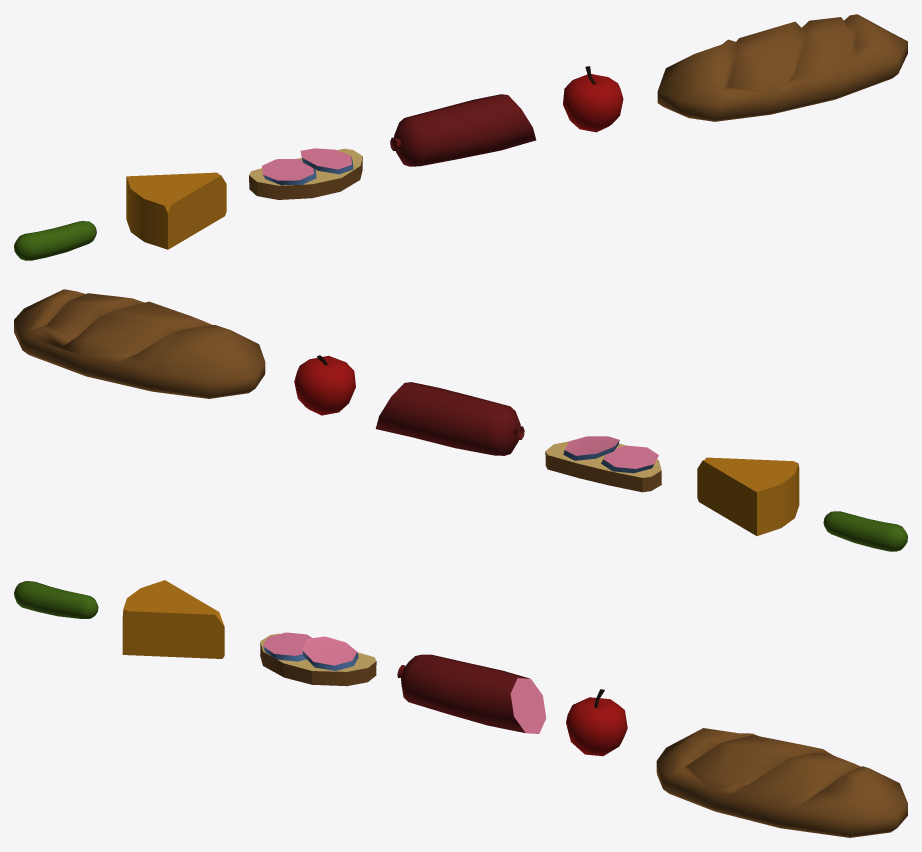
The model's file is Food All.FBX.
3 renders of one model, top to bottom at view 1: azimuth 30°, elevation 25°; view 2: azimuth 150°, elevation 25°; view 3: azimuth 330°, elevation 25°, orthographic.
Parts seen in each view (by area): view 1: Bread_01, Food_saliami_Doktorskaya_01, Food_Cheese_01, Sandwich_01, Food_apple_01, Food_Pickle_01; view 2: Bread_01, Food_saliami_Doktorskaya_01, Food_Cheese_01, Sandwich_01, Food_apple_01, Food_Pickle_01; view 3: Bread_01, Food_saliami_Doktorskaya_01, Food_Cheese_01, Sandwich_01, Food_apple_01, Food_Pickle_01.
Part boxes in pixels (box(x1,y1,x2,y2)): Bread_01: box(657, 14, 907, 121); Food_saliami_Doktorskaya_01: box(390, 94, 536, 166); Food_Cheese_01: box(126, 172, 226, 249); Sandwich_01: box(249, 148, 362, 199); Food_apple_01: box(563, 66, 623, 132); Food_Pickle_01: box(14, 221, 96, 260); Bread_01: box(14, 289, 265, 398); Food_saliami_Doktorskaya_01: box(375, 382, 524, 455); Food_Cheese_01: box(697, 457, 799, 535); Sandwich_01: box(545, 436, 661, 492); Food_apple_01: box(294, 355, 355, 415); Food_Pickle_01: box(823, 511, 907, 551); Bread_01: box(656, 728, 907, 837); Food_saliami_Doktorskaya_01: box(397, 654, 546, 733); Food_Cheese_01: box(122, 580, 224, 658); Sandwich_01: box(260, 632, 376, 686); Food_apple_01: box(566, 689, 627, 756); Food_Pickle_01: box(14, 581, 98, 618).
Bounding box in the file's own units: 186 × 12.32 × 22.41.
